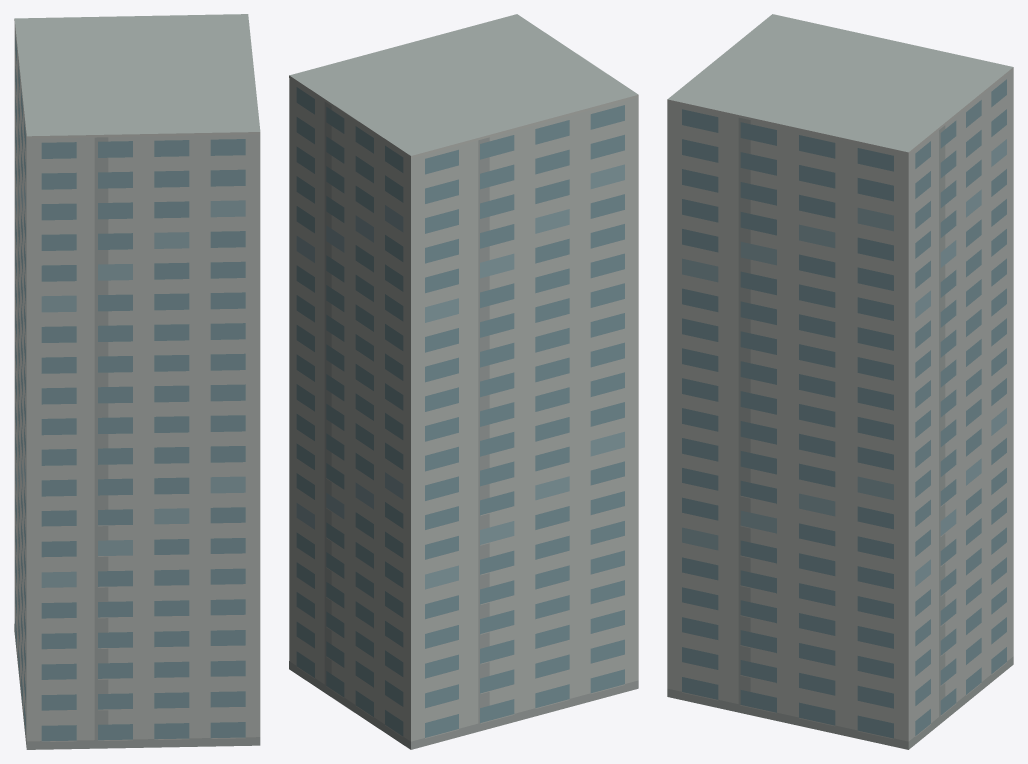
Rendered from residential-4543e2f1-a3af-48bd-a1fc-b43dc6051afe.glb.
3 renders of one model, left to right at view 1: azimuth 30°, elevation 25°; view 2: azimuth 150°, elevation 25°; view 3: azimuth 270°, elevation 25°, orthographic. The views are drawn at different scales.
Parts seen in each view (by area): view 1: residential-4543e2f1-a3af-48bd-a1fc-b43dc6051afe.tmp; view 2: residential-4543e2f1-a3af-48bd-a1fc-b43dc6051afe.tmp; view 3: residential-4543e2f1-a3af-48bd-a1fc-b43dc6051afe.tmp.
Boxes of the visible parts, left/top/right/bottom form: residential-4543e2f1-a3af-48bd-a1fc-b43dc6051afe.tmp: left=14, top=14, right=260, bottom=749; residential-4543e2f1-a3af-48bd-a1fc-b43dc6051afe.tmp: left=289, top=14, right=638, bottom=749; residential-4543e2f1-a3af-48bd-a1fc-b43dc6051afe.tmp: left=667, top=14, right=1013, bottom=749.
Size of the model in its own units: 29.32 by 59 by 30.99.
